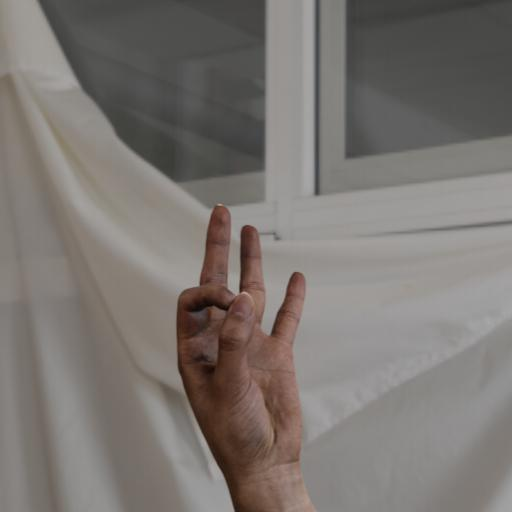F: (141, 207, 384, 512)
